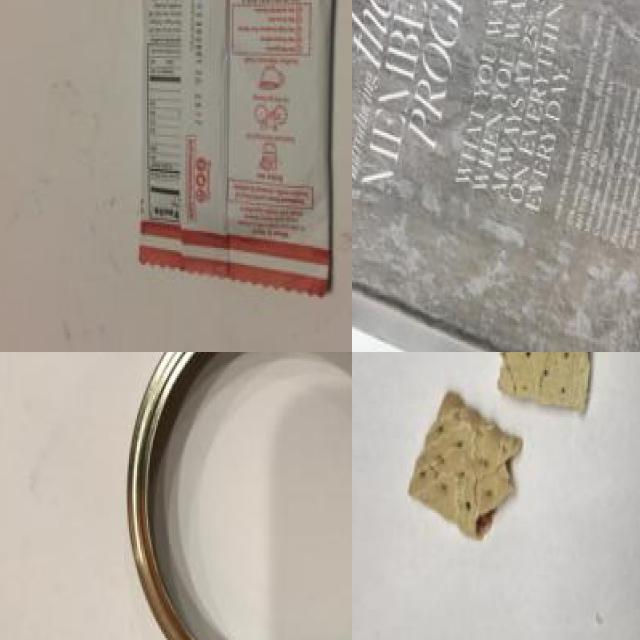compost: (399, 352, 614, 561)
paper: (352, 0, 640, 352)
plastic: (116, 352, 352, 640)
trash: (118, 0, 352, 314)
